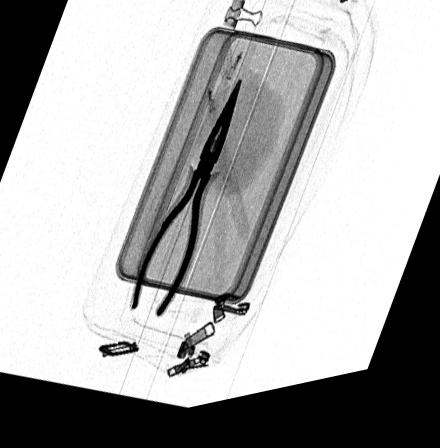Pliers: (129, 92, 241, 323)
